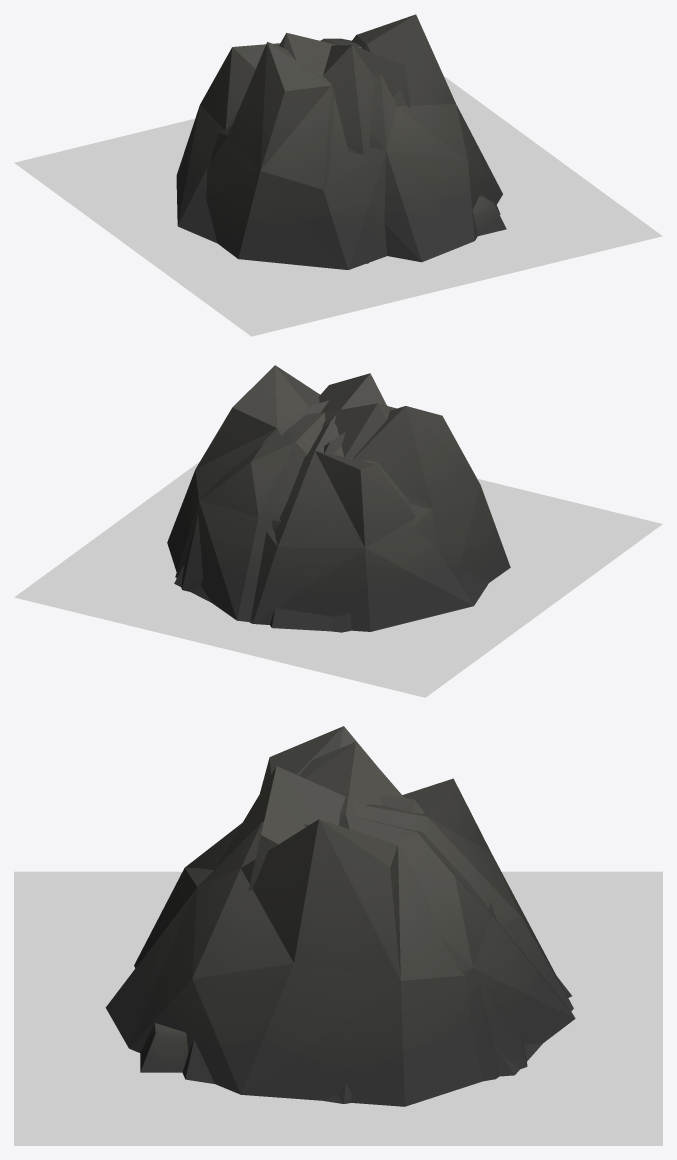
File: stones.fbx
3 views of the same model, one above another, from view 1: azimuth 30°, elevation 25°; view 2: azimuth 150°, elevation 25°; view 3: azimuth 270°, elevation 25° (orthographic). The views are drawn at different scales.
Visible parts, largest first — view 1: stone3, circle, stone1, stone2; view 2: circle, stone1, stone3, stone2; view 3: circle, stone3, stone2, stone1.
Boxes of the visible parts, bbox=[...] form: stone3: bbox=[206, 14, 502, 269]; circle: bbox=[14, 76, 662, 336]; stone1: bbox=[176, 43, 506, 263]; stone2: bbox=[221, 32, 500, 214]; circle: bbox=[14, 461, 662, 697]; stone1: bbox=[174, 373, 488, 631]; stone3: bbox=[167, 365, 510, 631]; stone2: bbox=[175, 403, 429, 632]; circle: bbox=[14, 871, 662, 1145]; stone3: bbox=[105, 726, 572, 1106]; stone2: bbox=[182, 742, 575, 1103]; stone1: bbox=[140, 766, 573, 1076].
Bounding box in the file's own units: 200 × 80.69 × 200.
